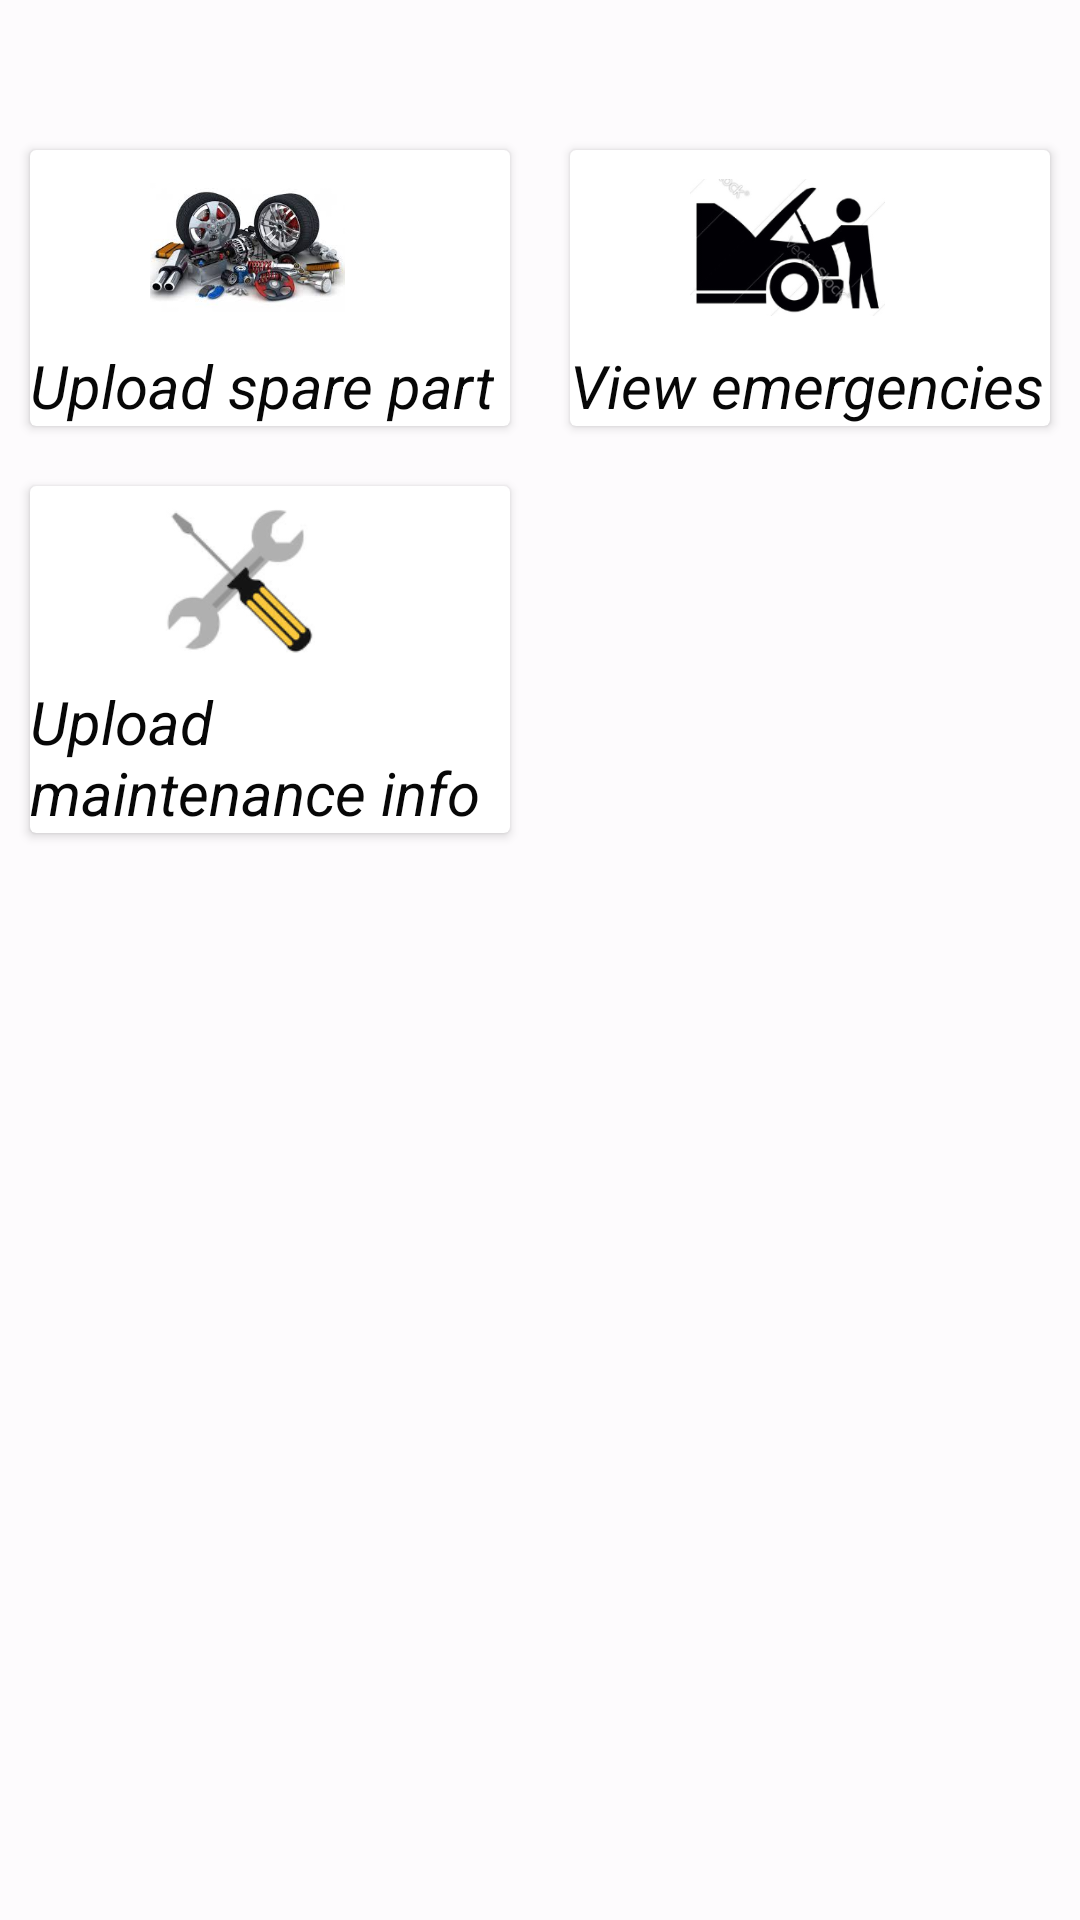

Named icons in this screenshot (1080w x 1920h) and their bounding boxes, (x1, y1, x2, y2):
myspares: (150, 192, 345, 302)
